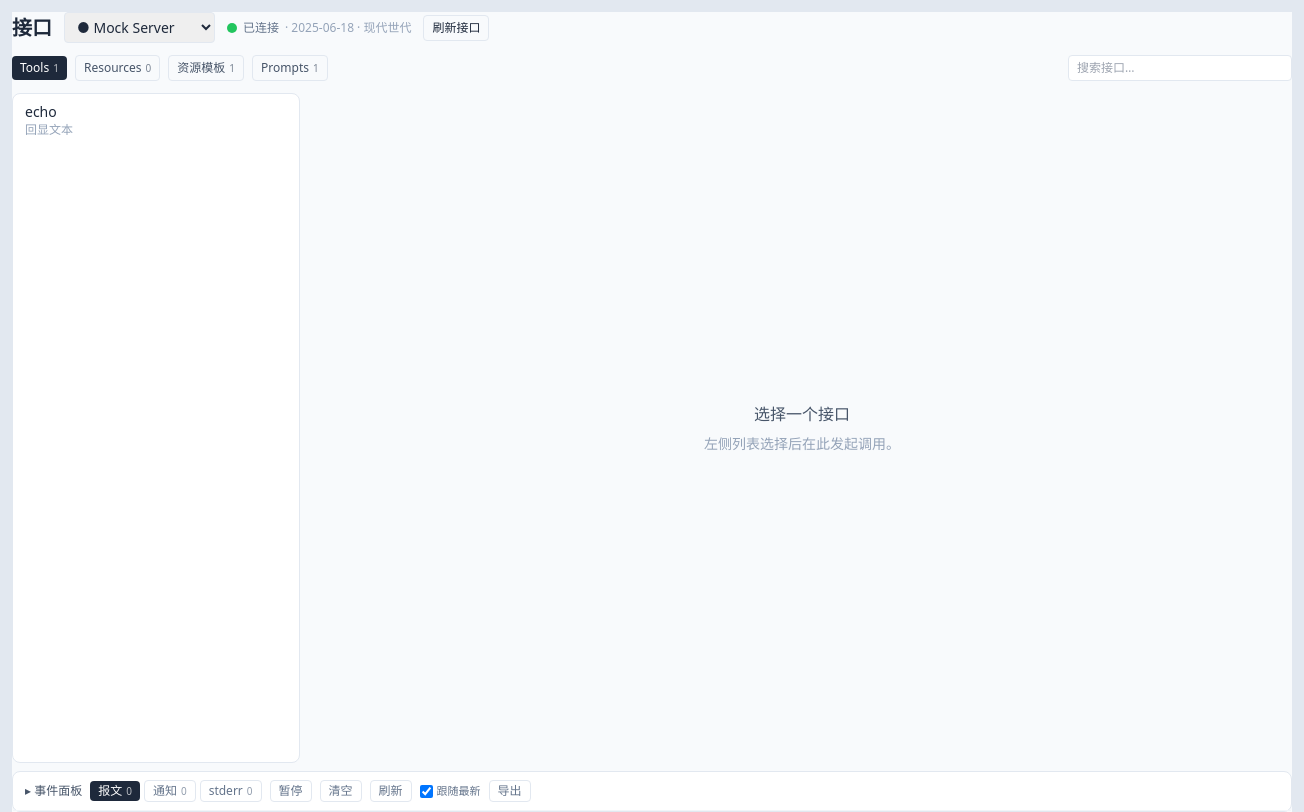
Scenario: Explorer 参数校验 › 切页签保留结果并提示旧结果归属，切回后恢复
Click the button "echo 回显文本" at (41, 112), box [13,94,299,146]
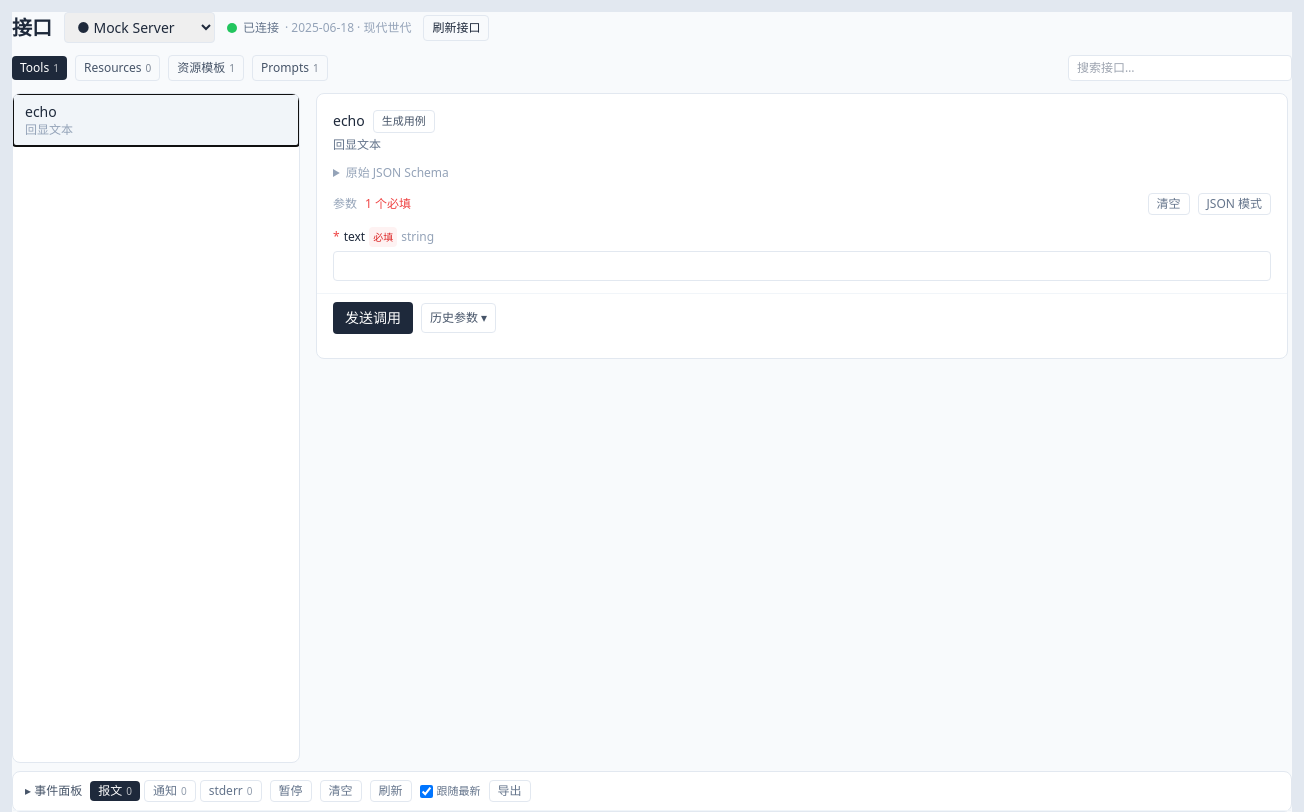
Type "hello" into the field named "text" at (802, 266), box [333,250,1271,280]
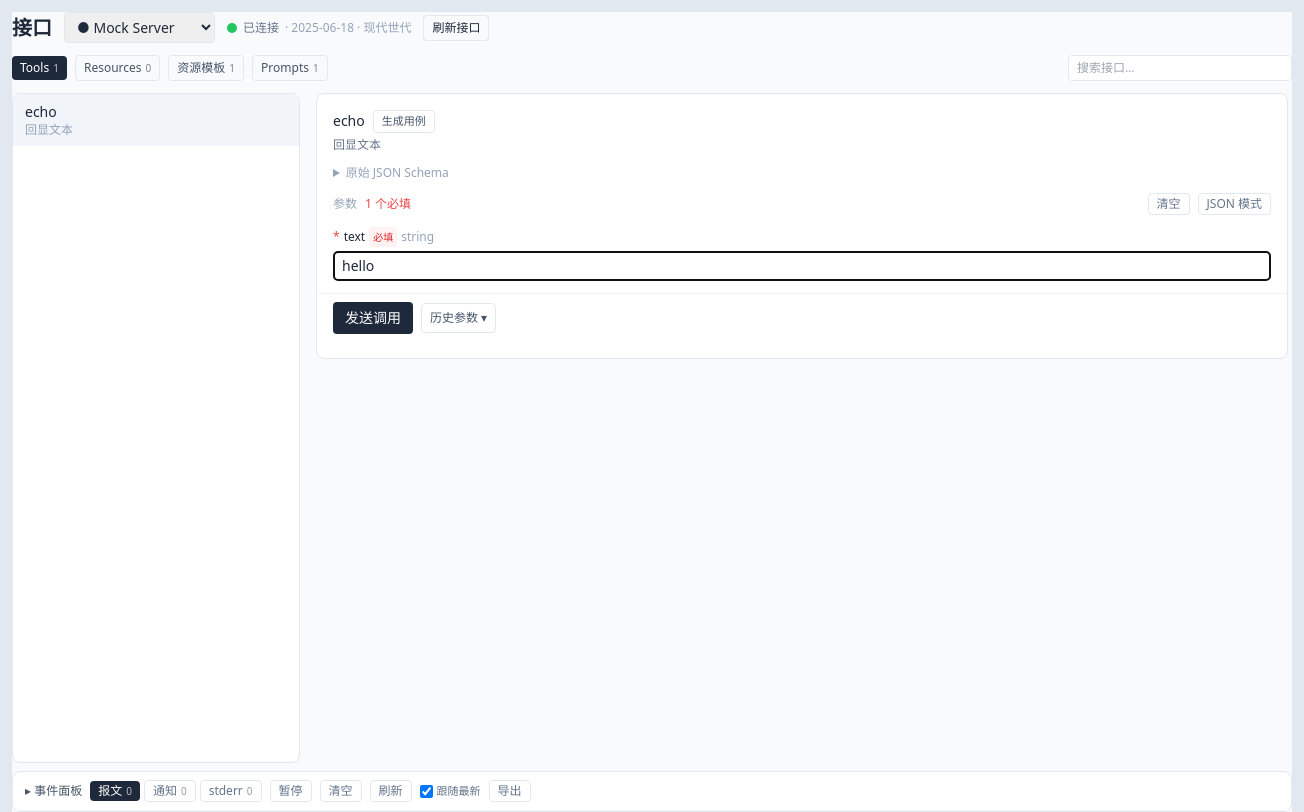
Click the button "发送调用" at (373, 318), box [333,302,413,334]
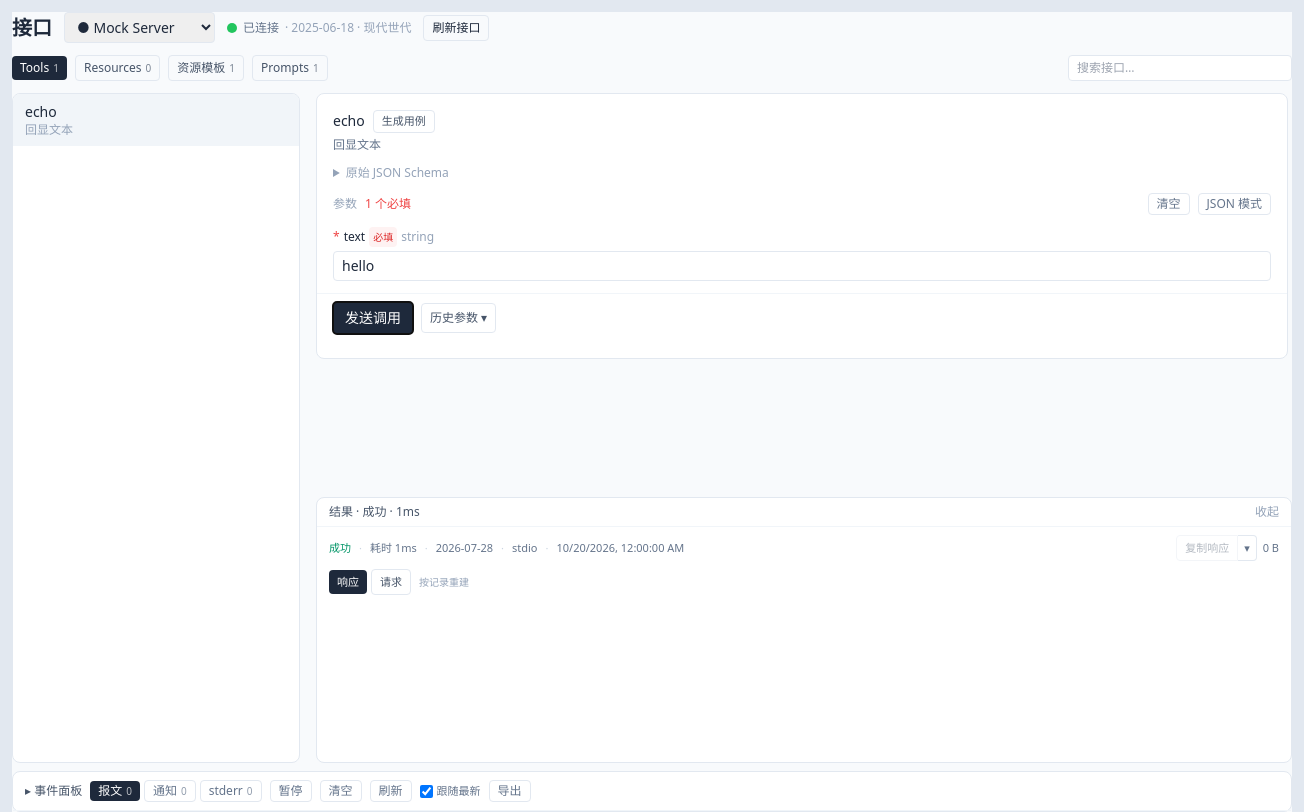
Click the button "Prompts1" at (290, 68), box [252,55,328,81]
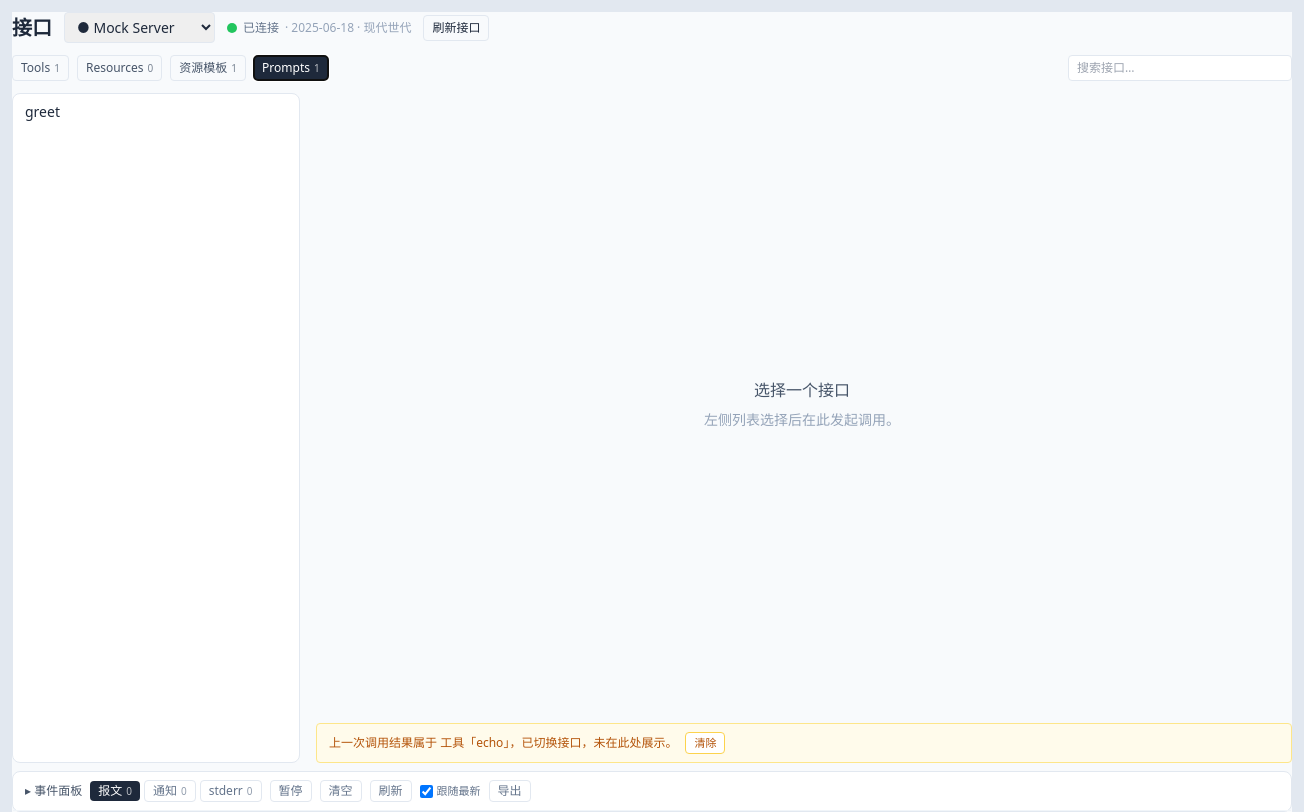
Expected: the text "上一次调用结果属于 工具「echo」，已切换接口，未在此处展示。" is shown, [329,735,677,751]
Click the button "Tools1" at (40, 68), box [12,55,69,81]
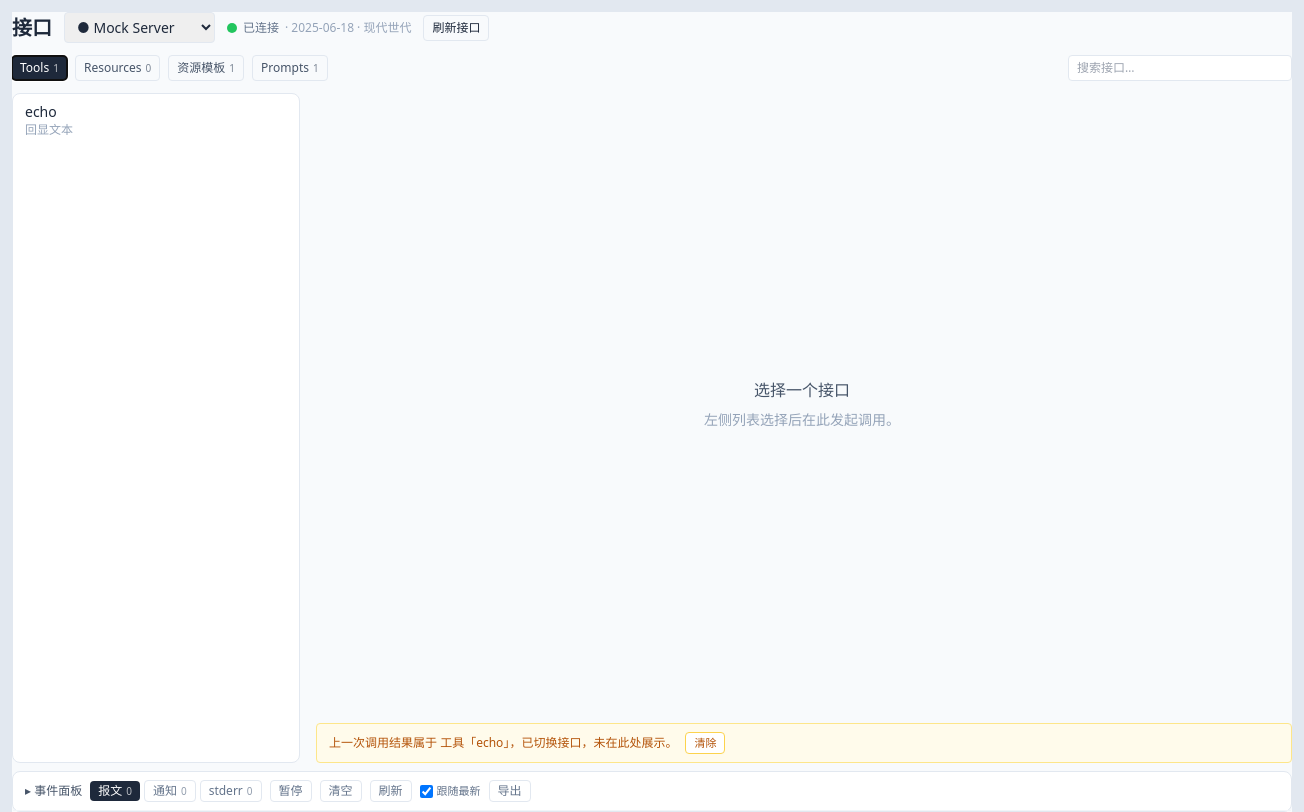
Click the button "echo 回显文本" at (41, 112), box [13,94,299,146]
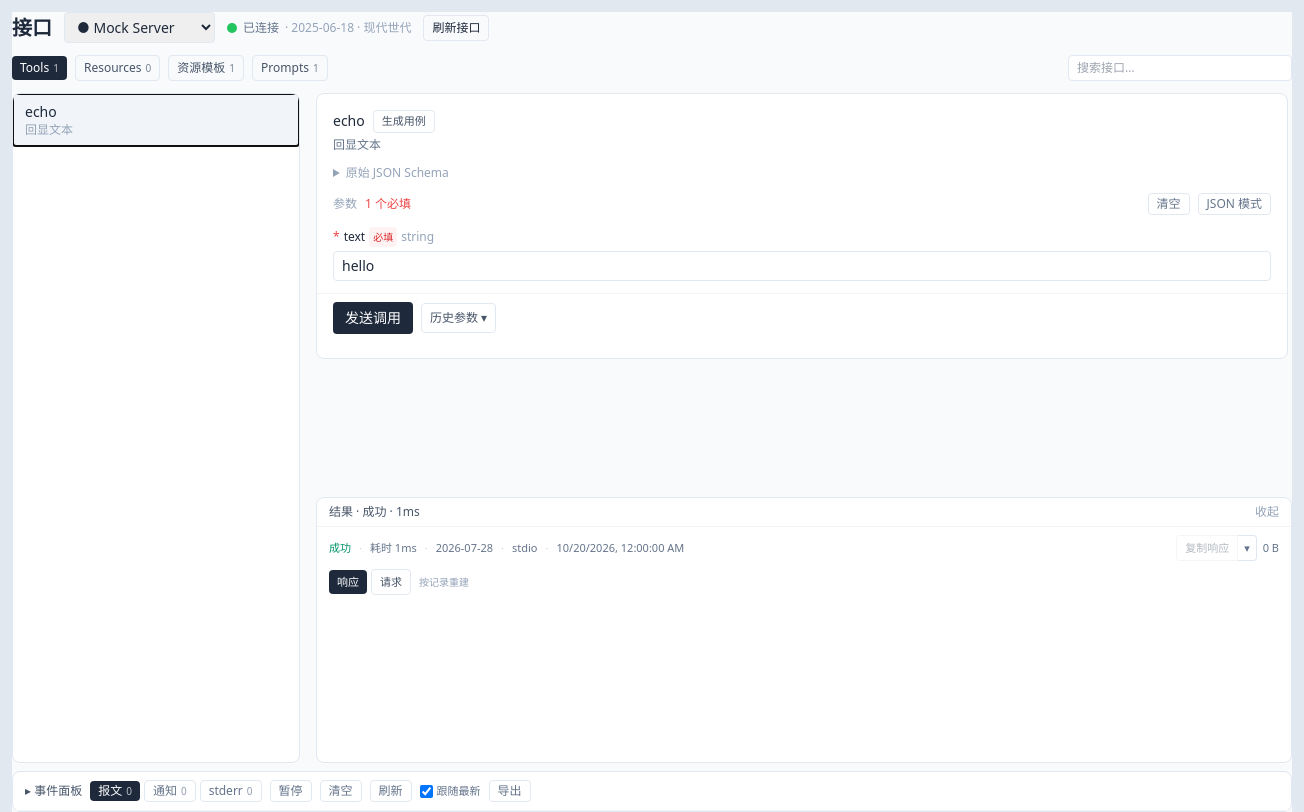
Expected: the text "上一次调用结果属于 工具「echo」" is gone
